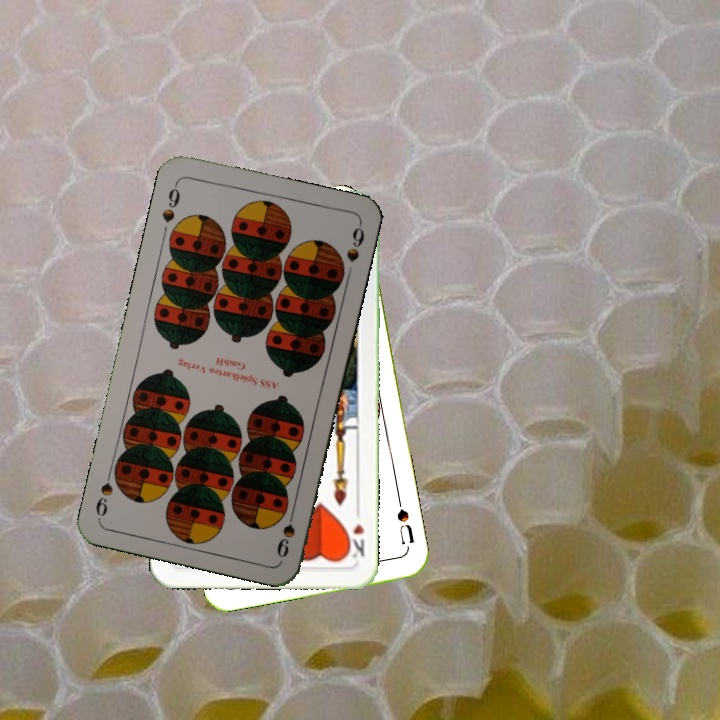HK: (343, 504, 367, 561)
S9: (273, 503, 298, 561), (158, 178, 183, 226)
SU: (393, 493, 417, 547)
